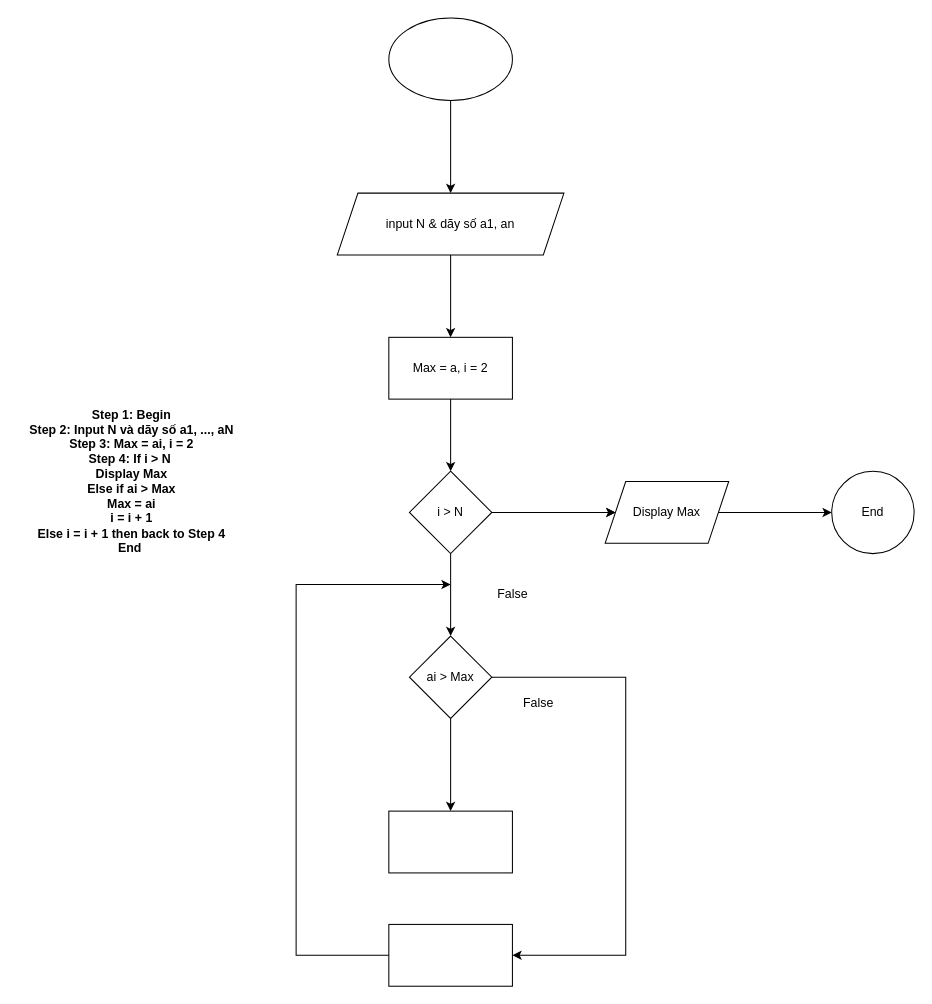
Some shapes in this 932 by 1004 pixel diagram are drawn without their labels. The shapes that lost their labels are listed below. From the top down, each one's centre as x and y in pixels, then its label:
At (450,58): "Begin".
At (450,841): "Max = ai".
At (450,954): "i = i + 1".
